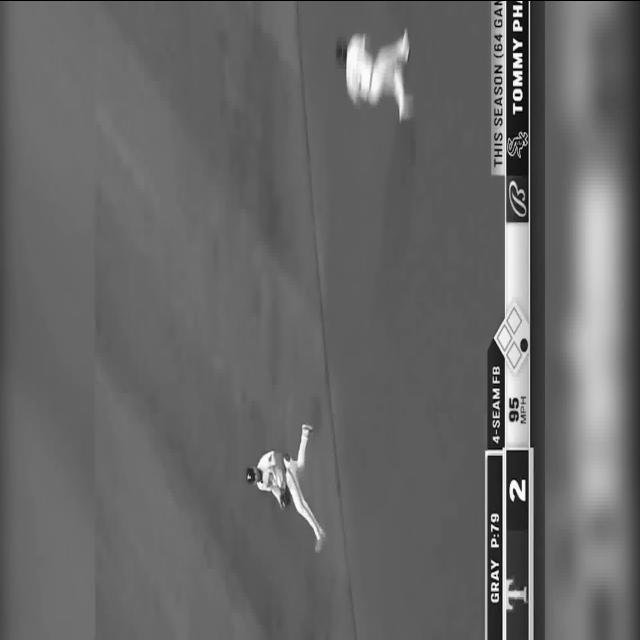baseball_glove: (279, 485, 290, 508)
shoe: (399, 94, 414, 122), (314, 527, 326, 553), (402, 29, 409, 63), (302, 422, 314, 436)
